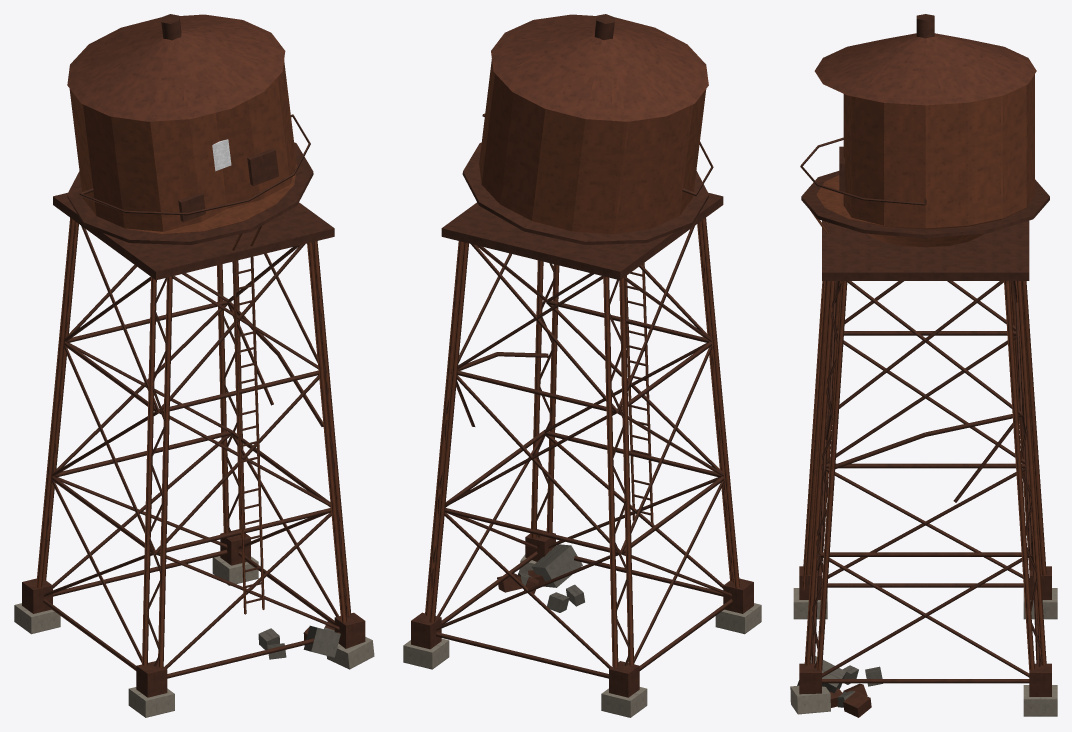
3 renders of one model, left to right at view 1: azimuth 30°, elevation 25°; view 2: azimuth 150°, elevation 25°; view 3: azimuth 270°, elevation 25°, orthographic.
Parts seen in each view (by area): view 1: site_water_tower_ruin; view 2: site_water_tower_ruin; view 3: site_water_tower_ruin.
Boxes of the visible parts, x1,y1,x2,y2 form: site_water_tower_ruin: [14, 14, 374, 717]; site_water_tower_ruin: [403, 14, 761, 717]; site_water_tower_ruin: [790, 14, 1057, 717].
Size of the model in its own units: 7.2 by 18.54 by 7.09.
6 materials, 6 textured.
